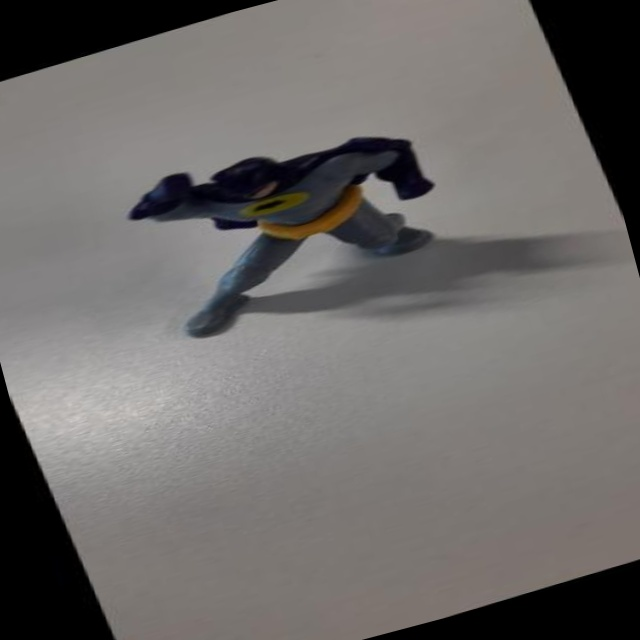Batman: (93, 89, 484, 358)
